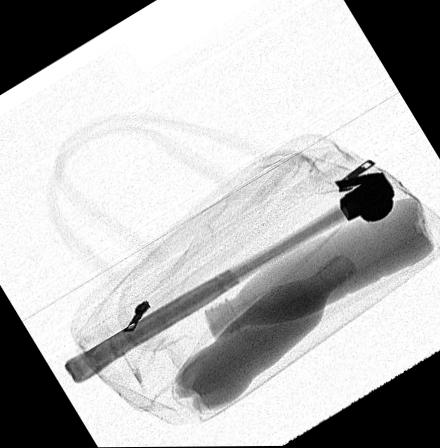Hammer: (63, 171, 395, 385)
